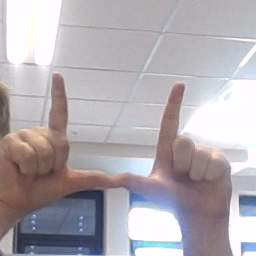U: (2, 68, 233, 217)
